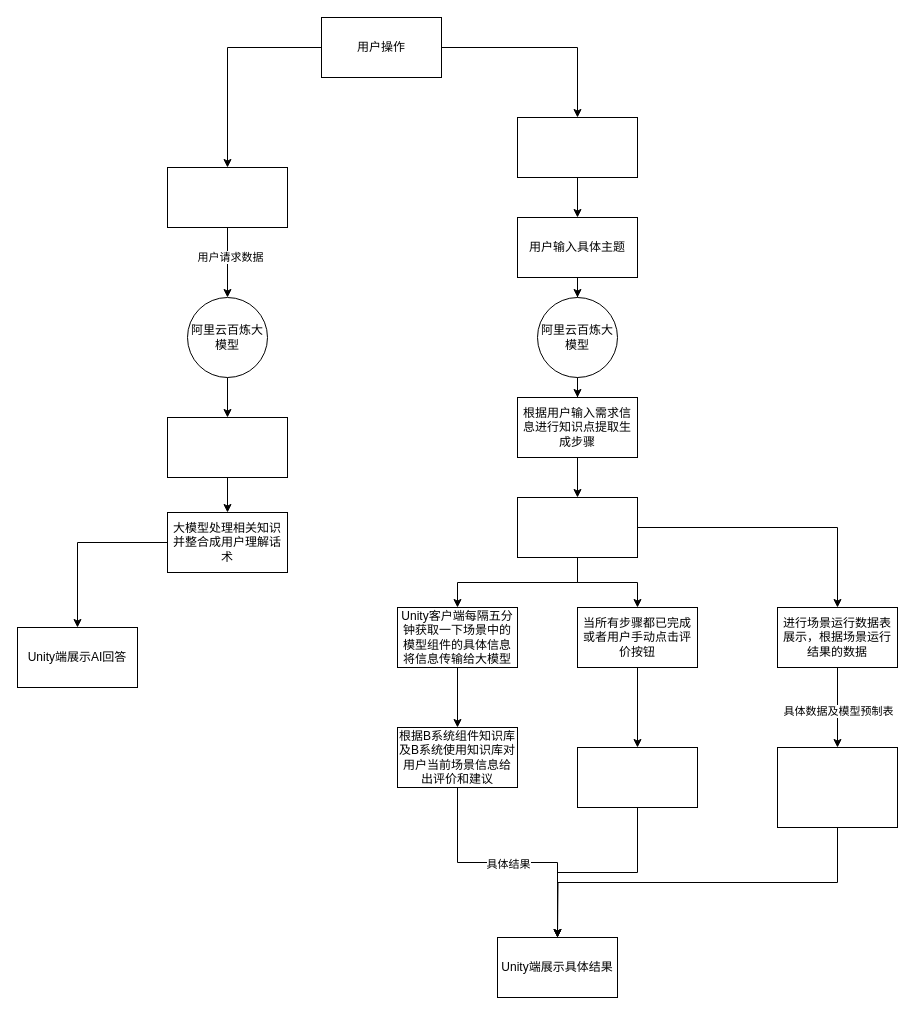
The diagram is 915 pixels wide and 1015 high, and some of its shapes have lost their labels. Here are the shapes that lost their labels. From the top down, the centre of each, then its label:
point 577,147: 主题场景搭建
point 227,197: 日常询问
point 227,447: 查询B系统使用知识库、查询B系统组件知识库、
point 577,527: 返回给Unity端展示具体步骤
point 637,777: 根据B系统组件知识库和调优后的大模型对当前场景做组件关联及组件介绍
point 837,787: 大模型分析具体数据和预制表信息选出表格及数据
